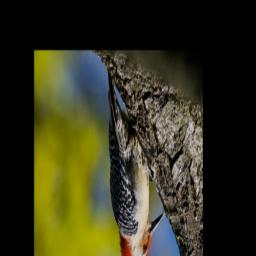Woodpecker: (108, 72, 167, 256)
